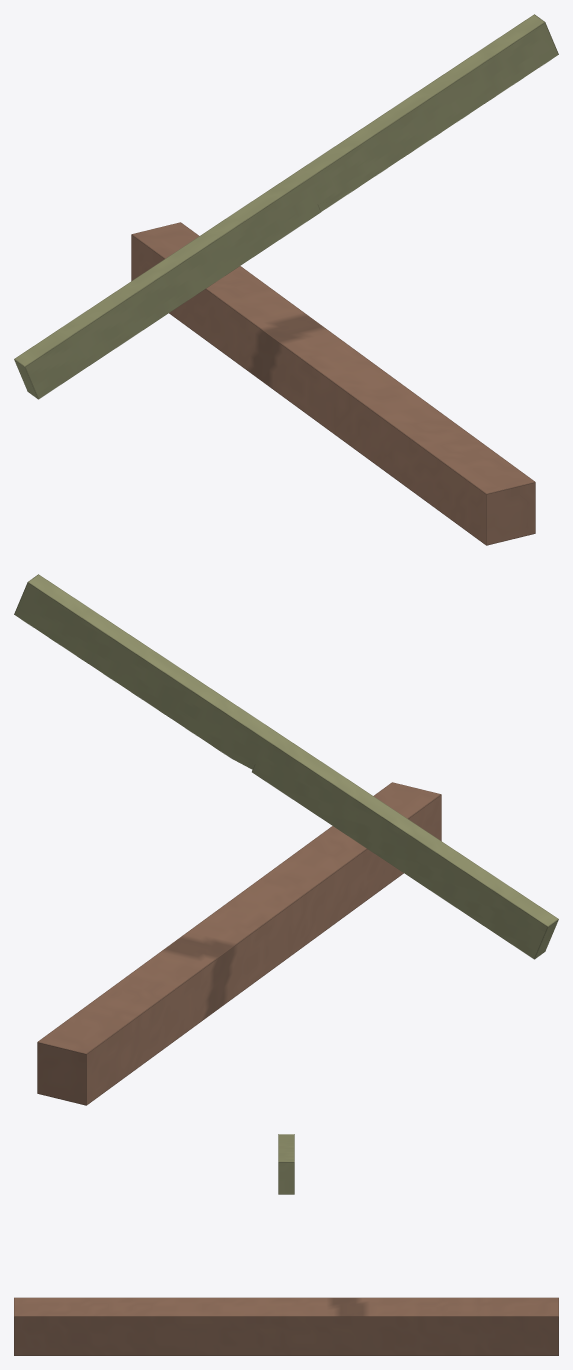
Rendered from jack-rafter-over-plate.glb.
3 renders of one model, top to bottom at view 1: azimuth 30°, elevation 25°; view 2: azimuth 150°, elevation 25°; view 3: azimuth 270°, elevation 25°, orthographic. The views are drawn at different scales.
Visible parts, largest first — view 1: part-a, part-b; view 2: part-a, part-b; view 3: part-a, part-b.
Part boxes in pixels (left/top/right/bottom): part-a: left=131, top=222, right=535, bottom=545; part-b: left=14, top=14, right=558, bottom=399; part-a: left=37, top=782, right=441, bottom=1105; part-b: left=14, top=574, right=558, bottom=959; part-a: left=14, top=1297, right=558, bottom=1355; part-b: left=278, top=1134, right=294, bottom=1194.
Bounding box in the file's own units: 1.3 × 0.7964 × 1.5.
